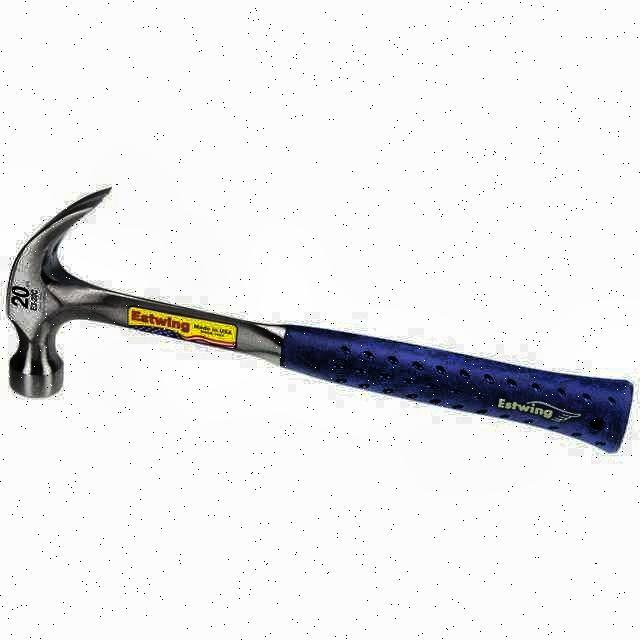hammer: (5, 188, 635, 462)
